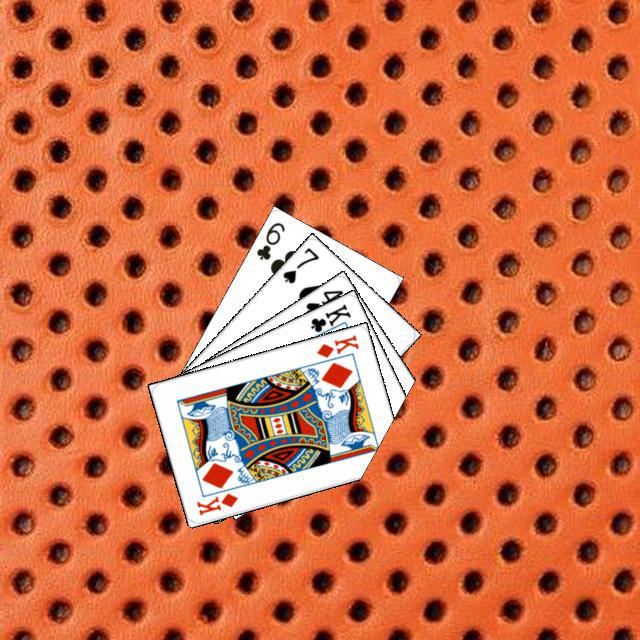4s: (301, 285, 345, 317)
6c: (251, 217, 287, 262)
7s: (278, 242, 321, 285)
Kc: (305, 299, 353, 341)
Kd: (312, 330, 361, 359), (191, 488, 240, 517)
